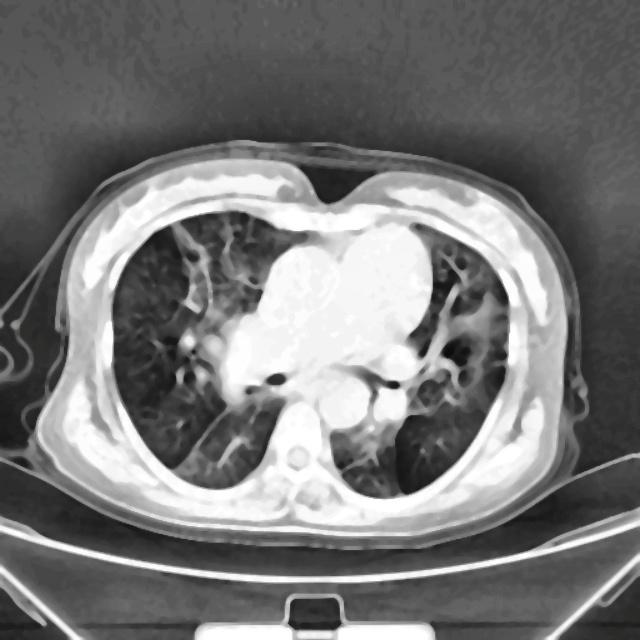covid: (17, 140, 590, 550)
